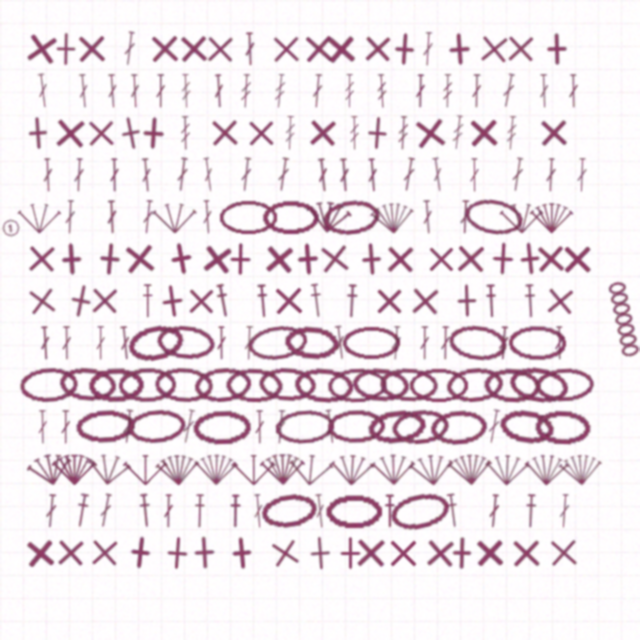chain: (387, 488, 452, 534), (125, 320, 187, 365), (462, 195, 525, 238), (507, 363, 570, 406), (246, 322, 309, 364), (259, 490, 320, 532), (447, 322, 509, 363), (497, 406, 557, 448), (321, 197, 382, 237), (366, 407, 427, 447), (155, 323, 217, 362), (126, 407, 188, 446), (58, 365, 118, 404), (445, 365, 505, 404), (390, 407, 450, 446), (293, 366, 354, 404), (274, 408, 335, 446), (193, 365, 252, 404), (351, 366, 411, 404), (429, 408, 489, 446), (19, 366, 79, 403), (75, 408, 135, 445), (283, 324, 341, 362), (327, 367, 388, 403), (154, 366, 213, 403), (379, 367, 439, 403), (258, 366, 316, 403), (225, 367, 284, 403), (483, 367, 542, 403), (535, 367, 594, 403), (192, 409, 251, 445), (534, 409, 592, 445), (118, 367, 177, 402), (327, 409, 386, 444), (409, 368, 469, 402), (508, 325, 566, 360), (88, 367, 145, 402), (219, 200, 277, 234), (262, 200, 320, 234), (342, 326, 400, 360), (325, 494, 382, 528)
double: (500, 73, 517, 108), (180, 409, 197, 444), (97, 493, 114, 528), (401, 157, 417, 192), (486, 409, 502, 444), (122, 31, 137, 66), (175, 157, 190, 192), (201, 157, 216, 192), (276, 157, 291, 192), (430, 157, 445, 192), (510, 157, 525, 192), (323, 409, 338, 444), (36, 73, 50, 108), (239, 157, 253, 192), (333, 325, 347, 360), (121, 409, 135, 444), (316, 158, 330, 192), (141, 200, 155, 234), (118, 326, 132, 360), (44, 494, 58, 528), (313, 494, 327, 528), (487, 494, 501, 528), (77, 74, 90, 108), (106, 74, 119, 108), (311, 74, 324, 108), (140, 158, 153, 192), (338, 158, 351, 192), (366, 158, 379, 192), (201, 200, 214, 234), (421, 200, 434, 234), (497, 326, 510, 360), (274, 410, 287, 444), (252, 494, 265, 528), (558, 494, 571, 528), (244, 32, 256, 66), (422, 32, 434, 66), (129, 74, 141, 108), (213, 74, 225, 108), (538, 74, 550, 108), (42, 158, 54, 192), (73, 158, 85, 192), (545, 158, 557, 192), (576, 158, 588, 192), (64, 200, 76, 234), (106, 200, 118, 234), (459, 200, 471, 234), (39, 326, 51, 360), (243, 326, 255, 360), (390, 326, 402, 360), (155, 74, 166, 108), (415, 74, 426, 108), (471, 74, 482, 108), (568, 74, 579, 108), (109, 158, 120, 192), (469, 158, 480, 192), (61, 326, 72, 360), (95, 326, 106, 360), (216, 326, 227, 360), (419, 326, 430, 360), (440, 326, 451, 360), (554, 326, 565, 360), (37, 410, 48, 444), (60, 410, 71, 444), (254, 410, 265, 444), (163, 494, 174, 528)
enseble_chain: (606, 280, 640, 359)
fan: (25, 448, 75, 490), (304, 197, 353, 236), (85, 449, 133, 488), (287, 450, 335, 488), (408, 450, 456, 488), (369, 198, 416, 236), (447, 450, 494, 487), (557, 450, 604, 487), (154, 451, 201, 487), (329, 451, 375, 487), (484, 451, 530, 487), (524, 451, 570, 487), (194, 451, 239, 486), (260, 451, 305, 486), (371, 451, 416, 486), (17, 200, 62, 234), (152, 200, 197, 234), (499, 200, 544, 234), (529, 200, 574, 234), (52, 452, 97, 486), (123, 452, 168, 486), (231, 452, 276, 486)
half_double: (214, 283, 232, 318), (73, 493, 91, 528), (308, 283, 325, 318), (444, 493, 461, 528), (137, 493, 153, 528), (255, 284, 270, 318), (345, 284, 359, 318), (484, 284, 498, 318), (523, 284, 537, 318), (524, 494, 538, 528), (141, 284, 154, 318), (193, 494, 206, 528), (229, 494, 242, 528), (383, 494, 396, 528)
noise: (0, 217, 21, 238)
single: (111, 113, 151, 153), (61, 281, 101, 321), (265, 533, 305, 573), (22, 29, 61, 68), (162, 239, 201, 278), (411, 114, 449, 152), (198, 240, 236, 278), (23, 282, 61, 320), (153, 282, 191, 320), (121, 240, 158, 277), (316, 240, 353, 277), (511, 240, 548, 277), (122, 534, 159, 571), (323, 31, 359, 67), (386, 31, 422, 67), (441, 31, 477, 67), (476, 31, 512, 67), (20, 115, 56, 151), (52, 115, 88, 151), (135, 115, 171, 151), (359, 115, 395, 151), (53, 241, 89, 277), (92, 241, 128, 277), (261, 241, 297, 277), (290, 241, 326, 277), (353, 241, 389, 277), (407, 283, 443, 319), (542, 283, 578, 319), (22, 535, 58, 571), (159, 535, 195, 571), (224, 535, 260, 571), (302, 535, 338, 571), (422, 535, 458, 571), (74, 31, 109, 66), (147, 31, 182, 66), (176, 31, 211, 66), (301, 31, 336, 66), (360, 31, 395, 66), (503, 31, 538, 66), (207, 115, 242, 150), (305, 115, 340, 150), (466, 115, 501, 150), (536, 115, 571, 150), (24, 241, 59, 276), (453, 241, 488, 276), (485, 241, 520, 276), (533, 241, 568, 276), (87, 283, 122, 318), (271, 283, 306, 318), (449, 283, 484, 318), (53, 535, 88, 570), (87, 535, 122, 570), (187, 535, 222, 570), (353, 535, 388, 570), (472, 535, 507, 570), (546, 535, 581, 570), (49, 32, 83, 66), (203, 32, 237, 66), (269, 32, 303, 66), (540, 32, 574, 66), (84, 116, 118, 150), (244, 116, 278, 150), (223, 242, 257, 276), (383, 242, 417, 276), (424, 242, 458, 276), (560, 242, 594, 276), (184, 284, 218, 318), (372, 284, 406, 318), (333, 536, 367, 570), (386, 536, 420, 570), (445, 536, 479, 570), (509, 536, 543, 570)
treble: (451, 115, 465, 150), (273, 74, 287, 108), (505, 116, 518, 150), (180, 74, 192, 108), (240, 74, 252, 108), (376, 74, 388, 108), (284, 116, 296, 150), (397, 116, 409, 150), (344, 74, 355, 108), (442, 74, 453, 108), (180, 116, 191, 150), (349, 116, 360, 150)
